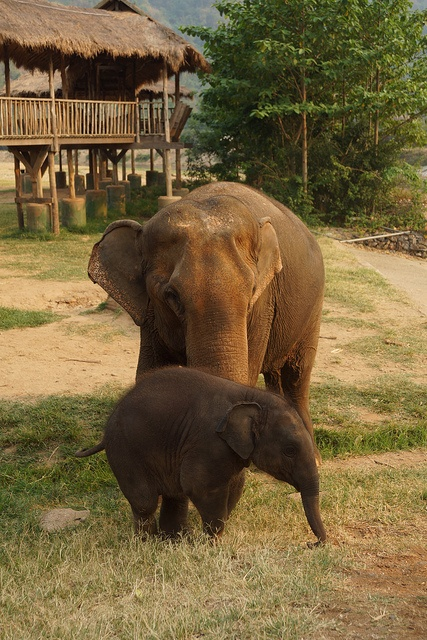elephant: (205, 311, 427, 575), (198, 457, 427, 637)
